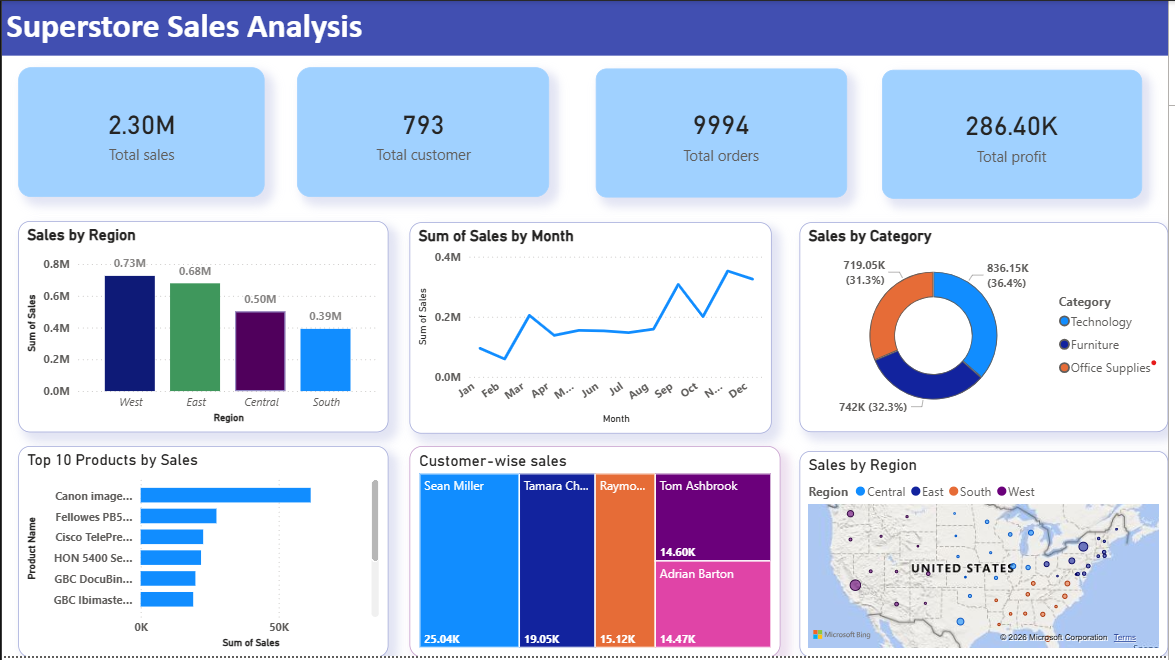

What the dashboard file says about the page in this screenshot:
{"tool":"powerbi","page":{"name":"Page 1","canvas":[1280,720],"ordinal":0},"visuals":[{"type":"card","fields":{"Values":["Sum(Table1.Sales)"]},"box":[17.8,72.7,270.3,142.7],"z":0},{"type":"card","fields":{"Values":["Count(Table1.Customer ID)"]},"box":[323.8,72.7,277.2,142.7],"z":1000},{"type":"card","fields":{"Values":["CountNonNull(Table1.Order ID)"]},"box":[651.8,74.1,275.8,141.3],"z":2000},{"type":"card","fields":{"Values":["Sum(Table1.Profit)"]},"box":[966,75.5,285.4,141.3],"z":3000},{"type":"clusteredColumnChart","title":"Sales by Region","fields":{"Category":["Table1.Region"],"Y":["Sum(Table1.Sales)"]},"box":[17.8,241.5,406.2,231.9],"z":4000},{"type":"lineChart","fields":{"Y":["Sum(Table1.Sales)"],"Category":["Table1.Month"]},"box":[447.3,242.9,397.9,231.9],"z":5000},{"type":"donutChart","title":"Sales by Category","fields":{"Category":["Table1.Category"],"Y":["Sum(Table1.Sales)"]},"box":[875.5,242.9,404.8,230.5],"z":6000},{"type":"clusteredBarChart","title":"Top 10 Products by Sales","fields":{"Category":["Table1.Product Name"],"Y":["Sum(Table1.Sales)"]},"box":[17.8,488.5,406.2,231.9],"z":7000},{"type":"treemap","title":"Customer-wise sales","fields":{"Group":["Table1.Customer Name"],"Values":["Sum(Table1.Sales)"]},"box":[447.3,488.5,407.5,231.9],"z":8000},{"type":"map","title":"Sales by Region","fields":{"Category":["Table1.State"],"Size":["Sum(Table1.Sales)"],"Series":["Table1.Region"]},"box":[875.5,494,404.8,226.4],"z":9000},{"type":"textbox","box":[0,0,1280.3,60.4],"z":9001}]}

Visuals, with their boxes in screenshot pixels (x1, y1, x2, y2), scaled from the page's 1280x720 canvas onto the 1175x660 screenshot:
card - Sum(Table1.Sales): (left=16, top=67, right=264, bottom=197)
card - Count(Table1.Customer ID): (left=297, top=67, right=552, bottom=197)
card - CountNonNull(Table1.Order ID): (left=598, top=68, right=852, bottom=197)
card - Sum(Table1.Profit): (left=887, top=69, right=1149, bottom=199)
"Sales by Region" clusteredColumnChart: (left=16, top=221, right=389, bottom=434)
lineChart - Sum(Table1.Sales) x Table1.Month: (left=411, top=223, right=776, bottom=435)
"Sales by Category" donutChart: (left=804, top=223, right=1174, bottom=434)
"Top 10 Products by Sales" clusteredBarChart: (left=16, top=448, right=389, bottom=659)
"Customer-wise sales" treemap: (left=411, top=448, right=785, bottom=659)
"Sales by Region" map: (left=804, top=453, right=1174, bottom=659)
textbox: (left=0, top=0, right=1174, bottom=55)
